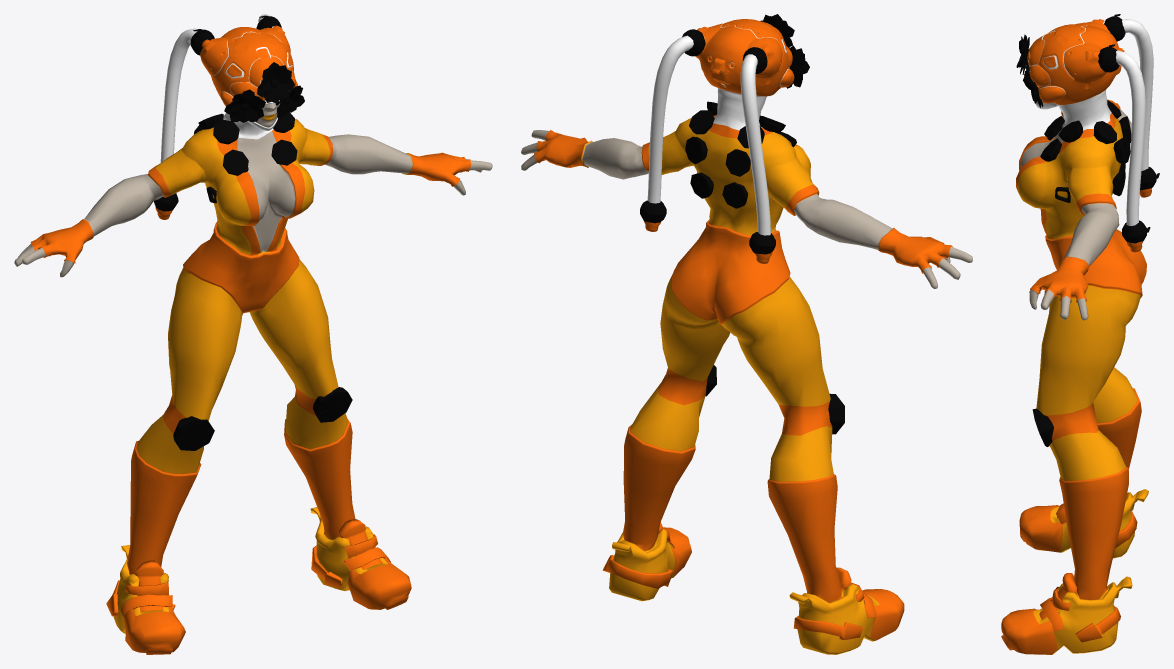
The model's file is orange_girl.fbx.
3 renders of one model, left to right at view 1: azimuth 30°, elevation 25°; view 2: azimuth 150°, elevation 25°; view 3: azimuth 270°, elevation 25°, orthographic. The views are drawn at different scales.
Parts seen in each view (by area): view 1: orange_girl; view 2: orange_girl; view 3: orange_girl.
Part boxes in pixels (left/top/right/bottom): orange_girl: left=14, top=14, right=492, bottom=654; orange_girl: left=521, top=14, right=972, bottom=654; orange_girl: left=1001, top=14, right=1159, bottom=654.
Size of the model in its own units: 163 by 200 by 50.47.
